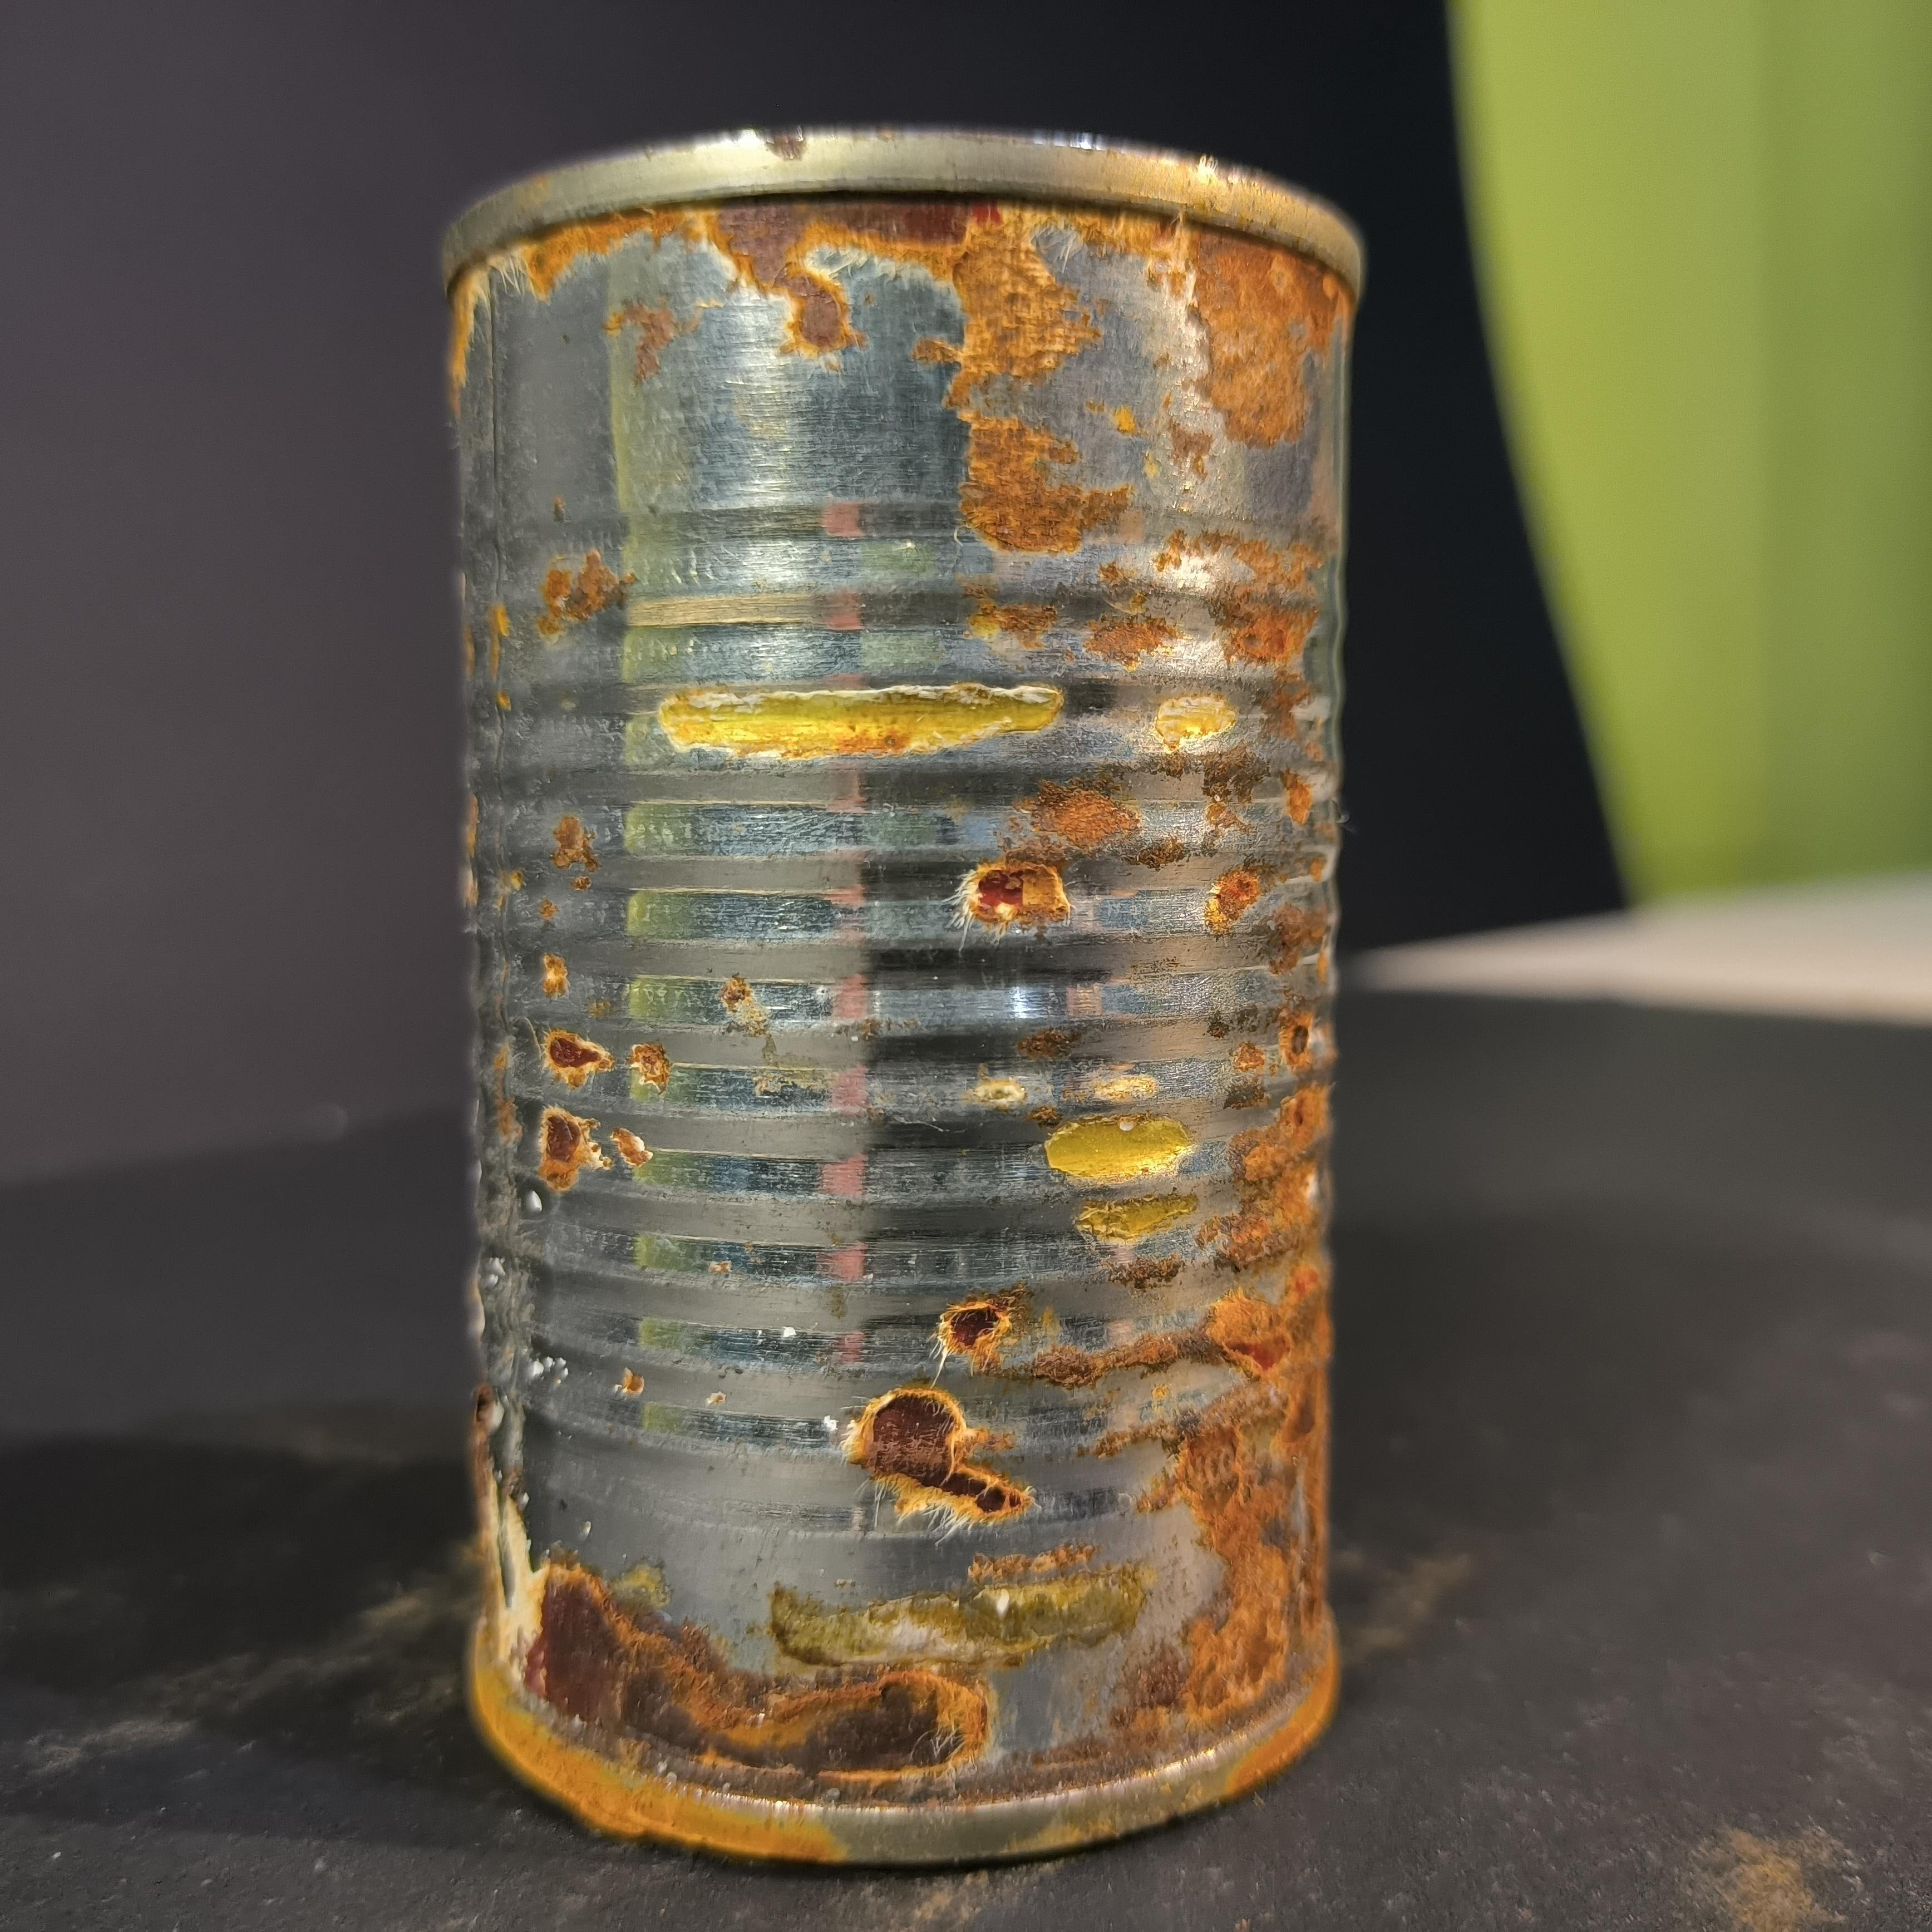Rusted: (412, 101, 1394, 1861)
